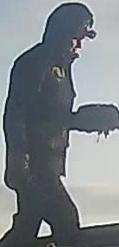gloves: (2, 146, 34, 190)
vest: (4, 39, 77, 183)
